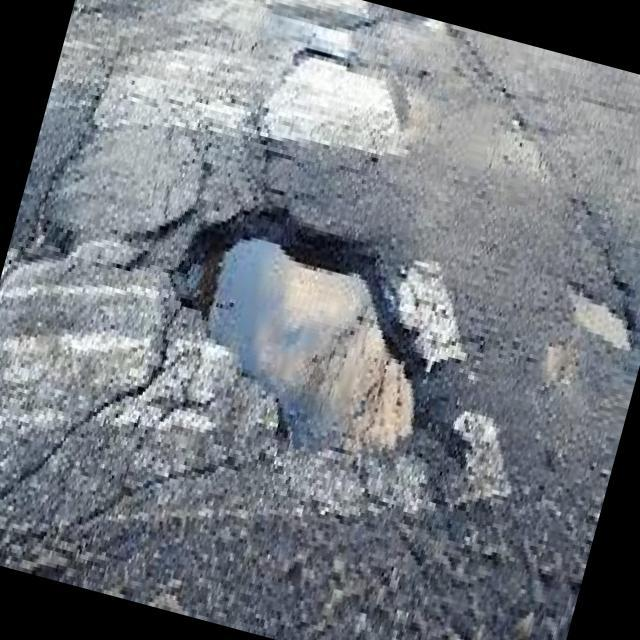Burst: (155, 188, 436, 471)
